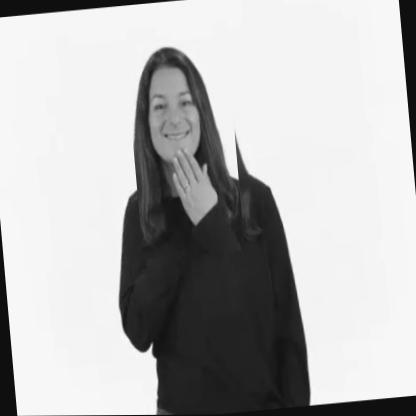ThankYou: (126, 37, 246, 260)
